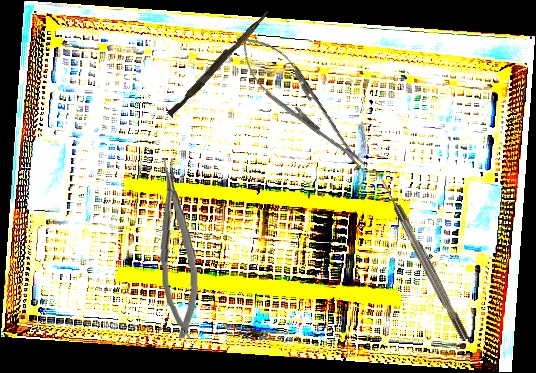Hook Surgical: (378, 176, 470, 343)
Needle Holder: (223, 20, 380, 185), (154, 155, 202, 342)
Pusher: (166, 6, 271, 120)
